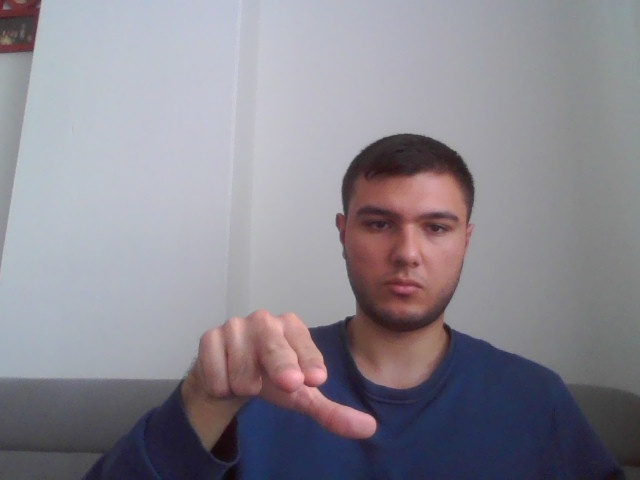no: (193, 310, 381, 441)
